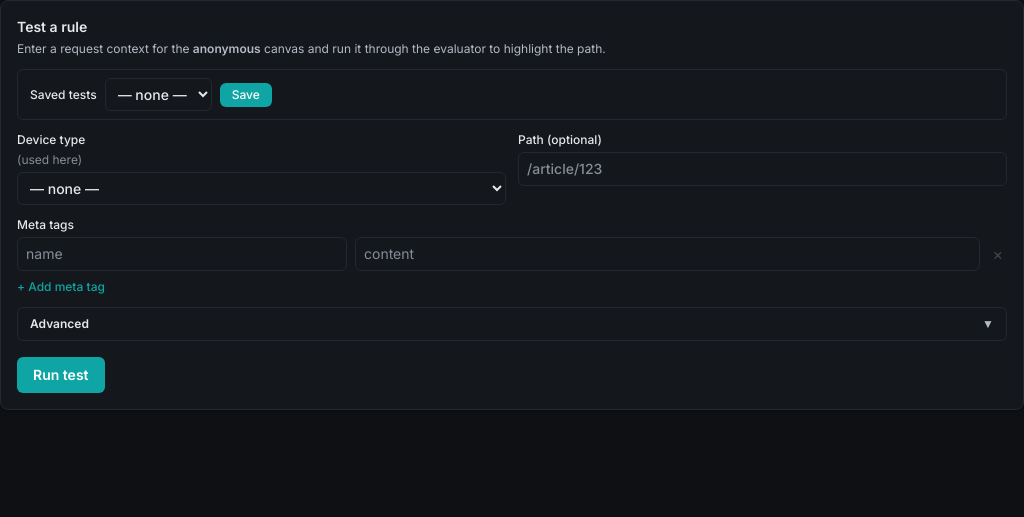
Scenario: TestPanel › treats reaching END with no apply_outcome as success (not a dead end)
Click the button "Run test" at {"x": 61, "y": 375}, box 17,357 -> 104,393
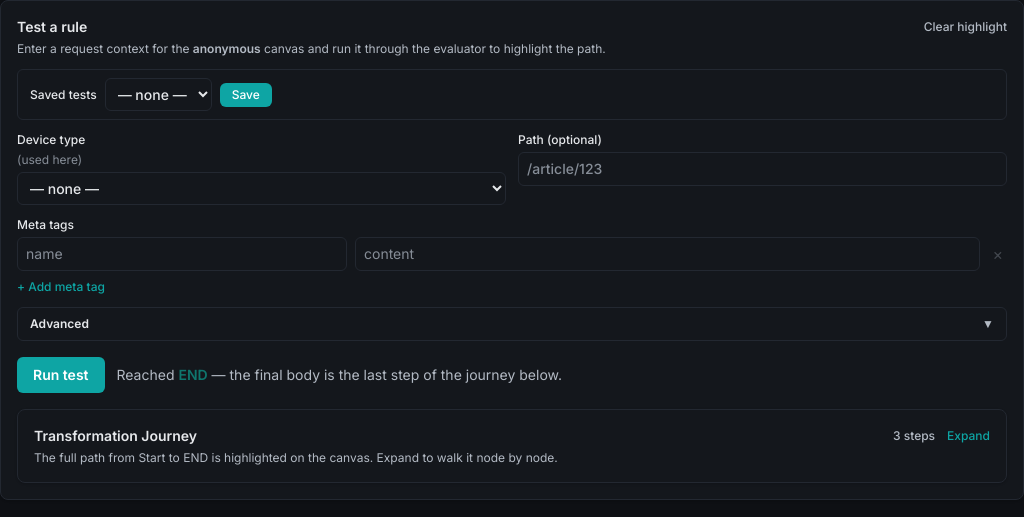
Result: the text "Reached" is shown at 116,366 -> 178,383
